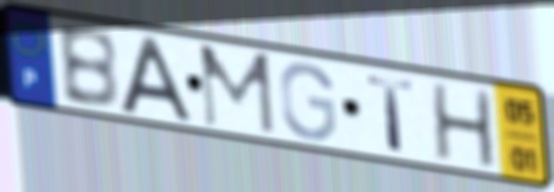A: (115, 34, 197, 126)
B: (53, 24, 123, 112)
G: (276, 59, 339, 143)
H: (428, 81, 500, 172)
M: (195, 42, 279, 138)
T: (364, 72, 419, 156)
